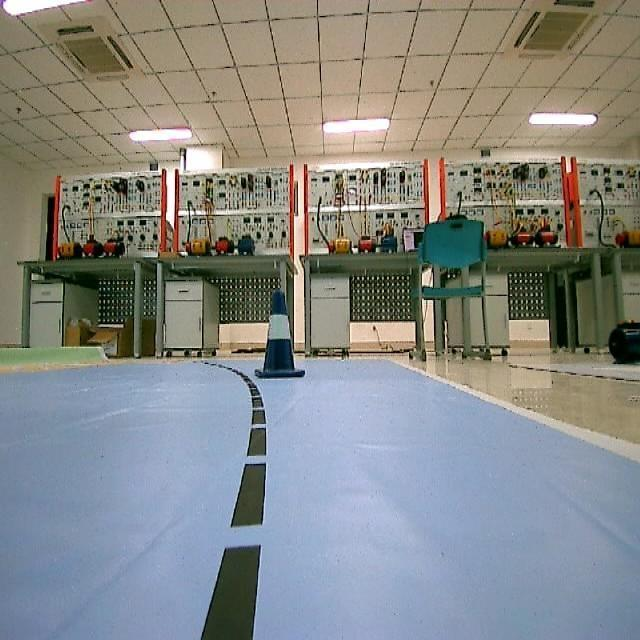obstacle: (253, 287, 308, 388)
